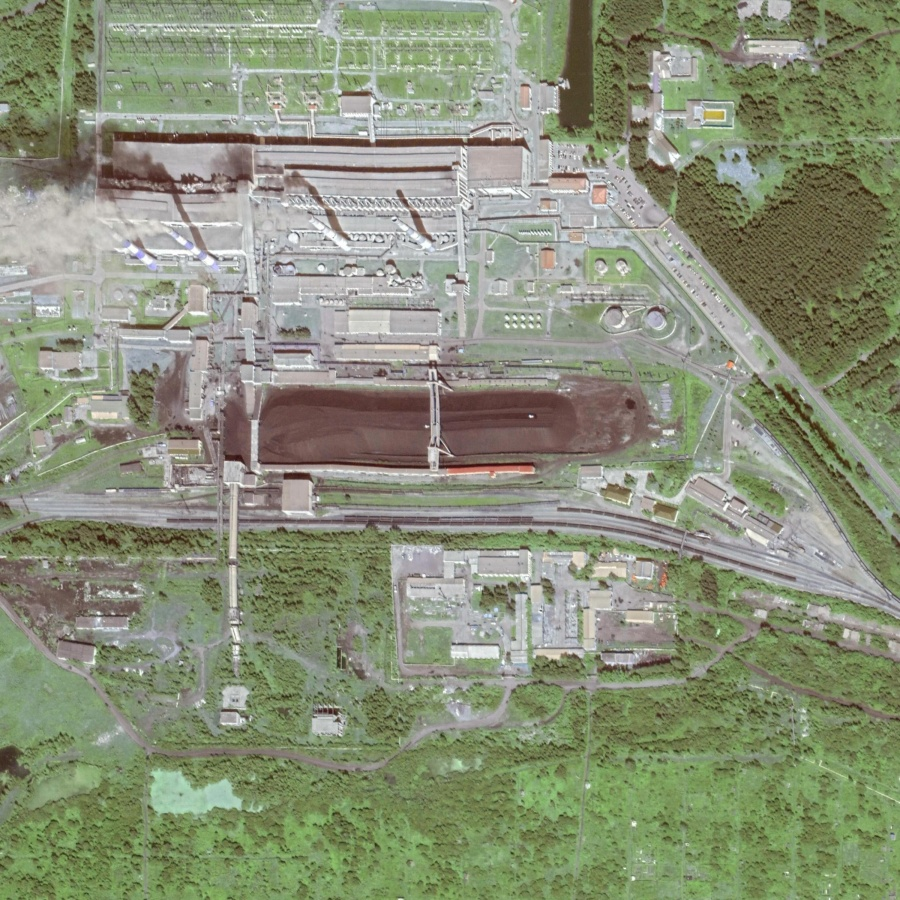PowerPlant: (71, 138, 670, 480)
